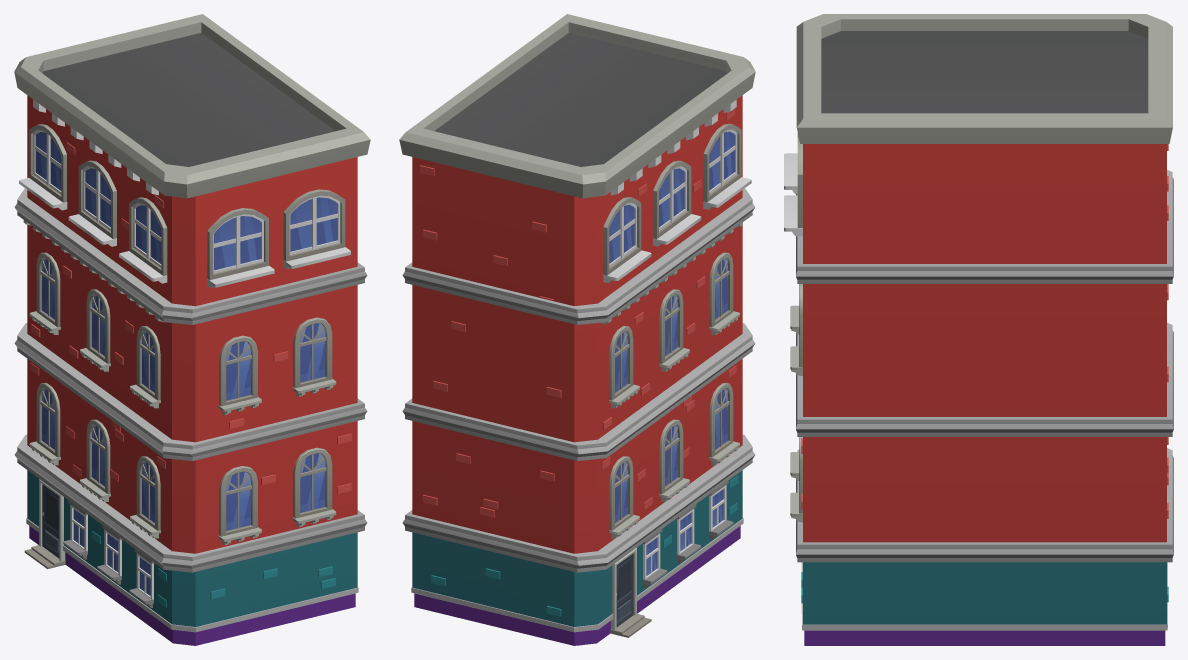
Rendered from Building_18_2_E.fbx.
3 renders of one model, left to right at view 1: azimuth 30°, elevation 25°; view 2: azimuth 150°, elevation 25°; view 3: azimuth 270°, elevation 25°, orthographic. The views are drawn at different scales.
Visible parts, largest first — view 1: Building_18_2_E; view 2: Building_18_2_E; view 3: Building_18_2_E.
Boxes of the visible parts, box(x1,y1,x2,y2) form: Building_18_2_E: box(14, 14, 370, 645); Building_18_2_E: box(399, 14, 755, 645); Building_18_2_E: box(784, 14, 1173, 645).
Size of the model in its own units: 719 by 1594 by 1059.
